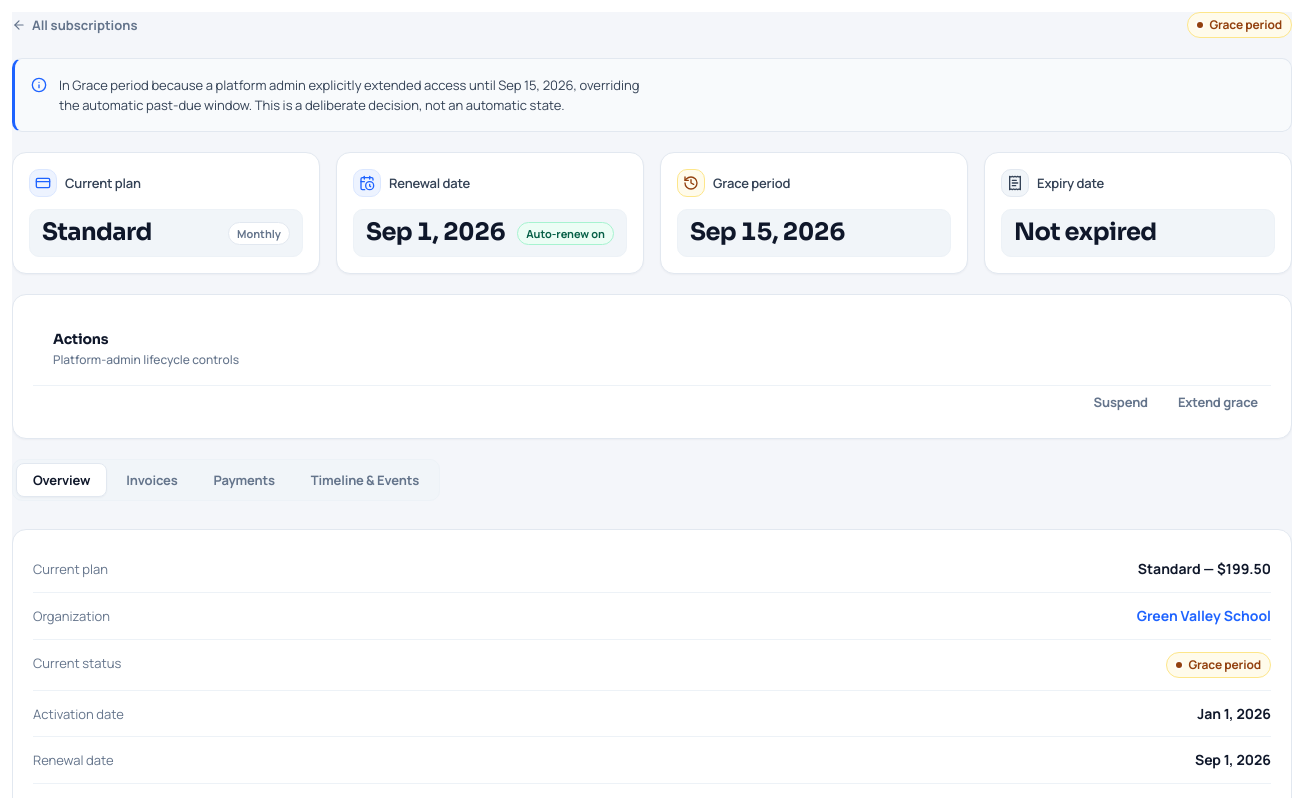
it: SubscriptionDetailsPage › switches to Invoices and shows the current invoice
Expected: the link "Green Valley School" is shown, [1137,606,1271,625]
Click the tab "Invoices".
click(152, 480)  # box [109,463,195,497]
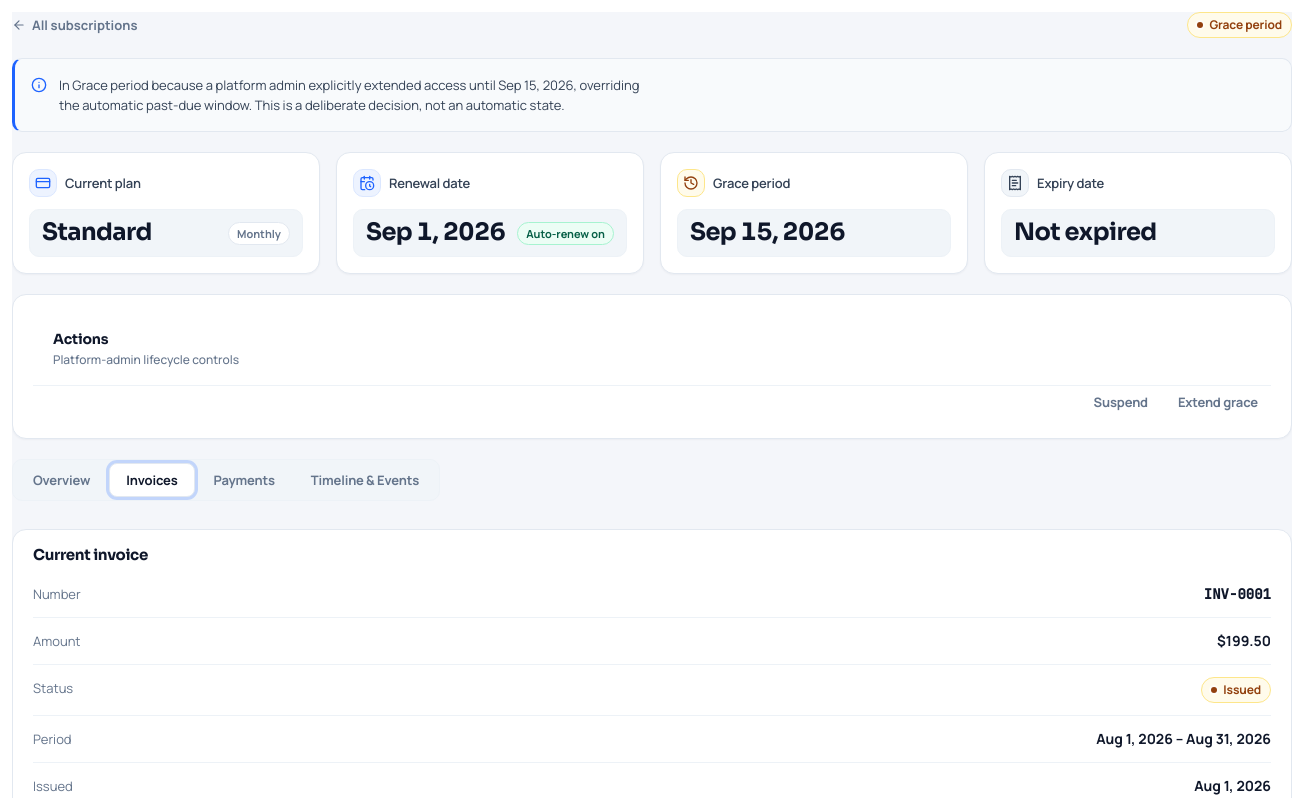
Now the heading "Current invoice" is shown, box [33,545,148,564]
Now the text "INV-0001" is shown, box [1204,584,1271,605]
